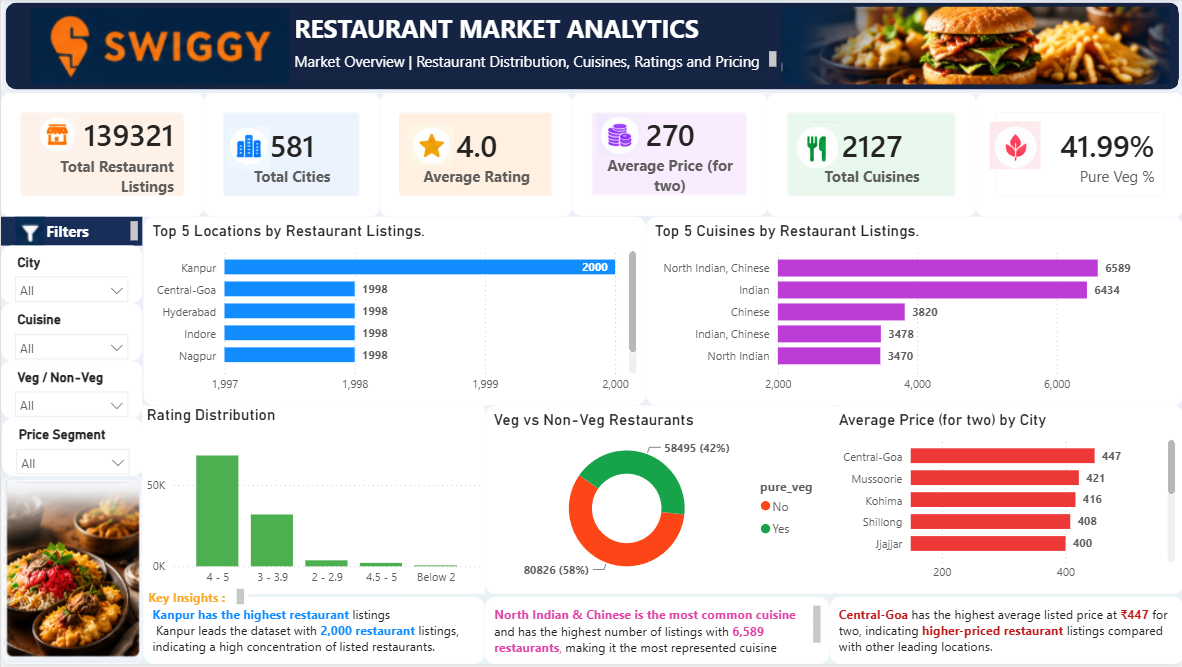

The dashboard page shown, as its layout file describes it:
{"tool":"powerbi","page":{"name":"Market Overview","canvas":[1280,720],"ordinal":0},"visuals":[{"type":"cardVisual","fields":{"Data":["CountNonNull(swiggy_restaurant_analytics swiggy_cleaned.restaurant_name)"]},"box":[0,102.7,219,133.8],"z":0},{"type":"shape","box":[0,0,1280.3,104.1],"z":1000},{"type":"textbox","box":[312.3,9.5,504.3,83.8],"z":2000},{"type":"textbox","box":[312.3,52.7,531.3,31.1],"z":3000},{"type":"image","box":[1.4,516.4,152.8,204.1],"z":4000},{"type":"image","box":[32.4,1.4,279.8,101.4],"z":5000},{"type":"image","box":[828.7,9.5,451.5,83.8],"z":6000},{"type":"textbox","box":[0,236.6,152.8,31.1],"z":7000},{"type":"image","box":[14.9,236.6,32.4,31.1],"z":8000},{"type":"cardVisual","fields":{"Data":["Count(swiggy_restaurant_analytics swiggy_cleaned.location)"]},"box":[219,102.7,190.6,133.8],"z":9000},{"type":"cardVisual","fields":{"Data":["swiggy_restaurant_analytics swiggy_cleaned.Average Rating"]},"box":[409.6,102.7,208.2,133.8],"z":10000},{"type":"cardVisual","fields":{"Data":["swiggy_restaurant_analytics swiggy_cleaned.Average Listed Price"]},"box":[617.8,102.7,210.9,132.5],"z":11000},{"type":"cardVisual","fields":{"Data":["swiggy_restaurant_analytics swiggy_cleaned.Cuisine Categories"]},"box":[828.7,102.7,225.8,133.8],"z":12000},{"type":"cardVisual","fields":{"Data":["swiggy_restaurant_analytics swiggy_cleaned.Pure Veg %"]},"box":[1054.2,102.7,225.8,133.8],"z":13000},{"type":"image","box":[31.1,125.7,56.8,44.6],"z":14000},{"type":"image","box":[243.3,136.5,47.3,51.4],"z":15000},{"type":"image","box":[440.7,133.8,48.7,51.4],"z":16000},{"type":"image","box":[639.5,125.7,58.1,46],"z":17000},{"type":"image","box":[853.1,133.8,59.5,51.4],"z":18000},{"type":"image","box":[1065.3,133.8,63.5,51.4],"z":19000},{"type":"slicer","fields":{"Values":["swiggy_restaurant_analytics swiggy_cleaned.location"]},"box":[0,267.7,152.8,62.2],"z":20000},{"type":"slicer","fields":{"Values":["swiggy_restaurant_analytics swiggy_cleaned.cuisine"]},"box":[0,329.9,152.8,62.2],"z":21000},{"type":"slicer","fields":{"Values":["swiggy_restaurant_analytics swiggy_cleaned.pure_veg"]},"box":[0,392.1,152.8,62.2],"z":22000},{"type":"slicer","fields":{"Values":["swiggy_restaurant_analytics swiggy_cleaned.Price Segment"]},"box":[1.4,454.2,152.8,62.2],"z":23000},{"type":"clusteredBarChart","title":"Top 5 Locations by Restaurant Listings.","fields":{"Category":["swiggy_restaurant_analytics swiggy_cleaned.location"],"Y":["CountNonNull(swiggy_restaurant_analytics swiggy_cleaned.restaurant_name)"]},"box":[154.1,236.6,543.5,204.1],"z":24000},{"type":"clusteredColumnChart","title":"Rating Distribution","fields":{"Category":["swiggy_restaurant_analytics swiggy_cleaned.Rating Range"],"Y":["swiggy_restaurant_analytics swiggy_cleaned.Total Listings"]},"box":[152.8,440.7,370.4,204.1],"z":25000},{"type":"clusteredBarChart","title":"Top 5 Cuisines by Restaurant Listings.","fields":{"Category":["swiggy_restaurant_analytics swiggy_cleaned.cuisine"],"Y":["CountNonNull(swiggy_restaurant_analytics swiggy_cleaned.restaurant_name)"]},"box":[697.6,236.6,582.7,204.1],"z":26000},{"type":"donutChart","title":"Veg vs Non-Veg Restaurants","fields":{"Category":["swiggy_restaurant_analytics swiggy_cleaned.pure_veg"],"Y":["swiggy_restaurant_analytics swiggy_cleaned.Total Listings"]},"box":[523.2,440.7,383.9,204.1],"z":27000},{"type":"clusteredBarChart","title":"Average Price (for two) by City","fields":{"Category":["swiggy_restaurant_analytics swiggy_cleaned.location"],"Y":["swiggy_restaurant_analytics swiggy_cleaned.Average Valid Listed Price"]},"box":[896.3,440.7,383.9,204.1],"z":28000},{"type":"textbox","box":[154.1,644.9,1126.2,75.7],"z":29000},{"type":"textbox","box":[154.1,647.6,369.1,73],"z":30000},{"type":"textbox","box":[523.2,647.6,373.1,73],"z":31000},{"type":"textbox","box":[154.1,634.1,113.6,27],"z":32000},{"type":"textbox","box":[896.3,647.6,383.9,73],"z":33000}]}

Visuals, with their boxes in screenshot pixels (x1, y1, x2, y2), scaled from the page's 1280x720 canvas onto the 1182x667 screenshot:
cardVisual - CountNonNull(swiggy_restaurant_analytics swiggy_cleaned.restaurant_name): x1=0 y1=95 x2=202 y2=219
shape: x1=0 y1=0 x2=1181 y2=96
textbox: x1=288 y1=9 x2=754 y2=86
textbox: x1=288 y1=49 x2=779 y2=78
image: x1=1 y1=478 x2=142 y2=666
image: x1=30 y1=1 x2=288 y2=95
image: x1=765 y1=9 x2=1181 y2=86
textbox: x1=0 y1=219 x2=141 y2=248
image: x1=14 y1=219 x2=44 y2=248
cardVisual - Count(swiggy_restaurant_analytics swiggy_cleaned.location): x1=202 y1=95 x2=378 y2=219
cardVisual - swiggy_restaurant_analytics swiggy_cleaned.Average Rating: x1=378 y1=95 x2=570 y2=219
cardVisual - swiggy_restaurant_analytics swiggy_cleaned.Average Listed Price: x1=570 y1=95 x2=765 y2=218
cardVisual - swiggy_restaurant_analytics swiggy_cleaned.Cuisine Categories: x1=765 y1=95 x2=974 y2=219
cardVisual - swiggy_restaurant_analytics swiggy_cleaned.Pure Veg %: x1=973 y1=95 x2=1181 y2=219
image: x1=29 y1=116 x2=81 y2=158
image: x1=225 y1=126 x2=268 y2=174
image: x1=407 y1=124 x2=452 y2=172
image: x1=591 y1=116 x2=644 y2=159
image: x1=788 y1=124 x2=843 y2=172
image: x1=984 y1=124 x2=1042 y2=172
slicer - swiggy_restaurant_analytics swiggy_cleaned.location: x1=0 y1=248 x2=141 y2=306
slicer - swiggy_restaurant_analytics swiggy_cleaned.cuisine: x1=0 y1=306 x2=141 y2=363
slicer - swiggy_restaurant_analytics swiggy_cleaned.pure_veg: x1=0 y1=363 x2=141 y2=421
slicer - swiggy_restaurant_analytics swiggy_cleaned.Price Segment: x1=1 y1=421 x2=142 y2=478
"Top 5 Locations by Restaurant Listings." clusteredBarChart: x1=142 y1=219 x2=644 y2=408
"Rating Distribution" clusteredColumnChart: x1=141 y1=408 x2=483 y2=597
"Top 5 Cuisines by Restaurant Listings." clusteredBarChart: x1=644 y1=219 x2=1181 y2=408
"Veg vs Non-Veg Restaurants" donutChart: x1=483 y1=408 x2=838 y2=597
"Average Price (for two) by City" clusteredBarChart: x1=828 y1=408 x2=1181 y2=597
textbox: x1=142 y1=597 x2=1181 y2=666
textbox: x1=142 y1=600 x2=483 y2=666
textbox: x1=483 y1=600 x2=828 y2=666
textbox: x1=142 y1=587 x2=247 y2=612
textbox: x1=828 y1=600 x2=1181 y2=666
